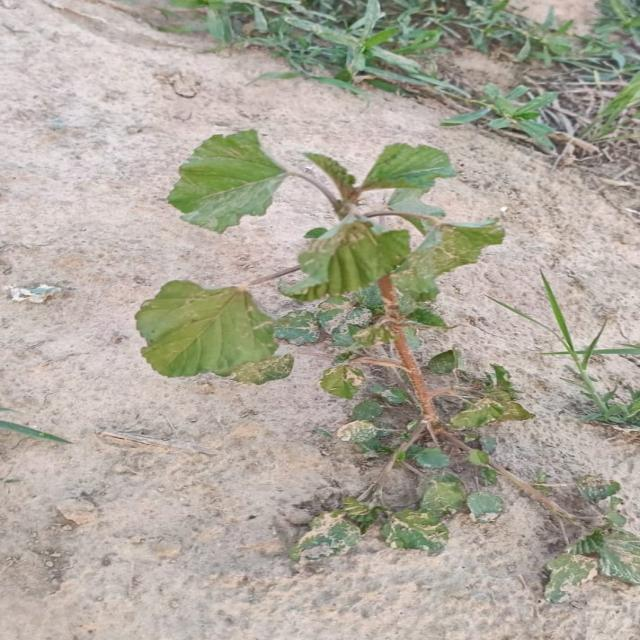weed: (134, 130, 640, 603)
